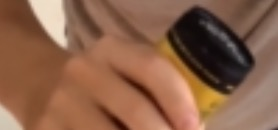blackprincess: (131, 5, 262, 130)
